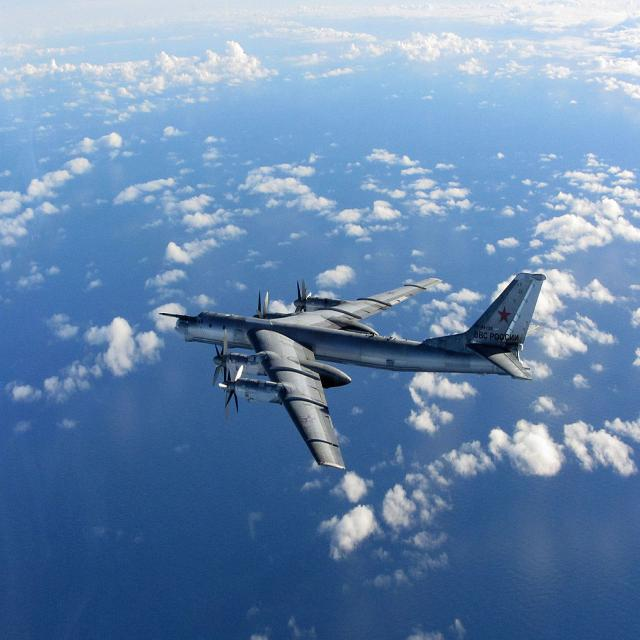MIL_Plane: (158, 272, 546, 470)
